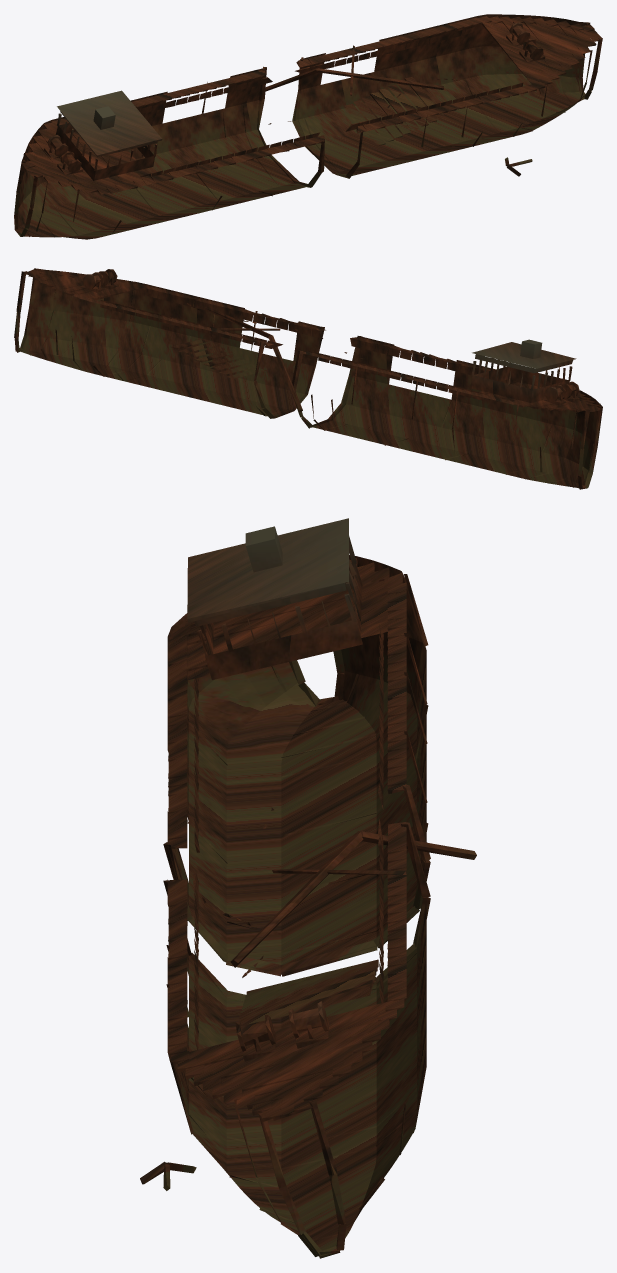
File: wreck_chenjiao_lod2.glb
3 renders of one model, top to bottom at view 1: azimuth 30°, elevation 25°; view 2: azimuth 150°, elevation 25°; view 3: azimuth 270°, elevation 25°, orthographic. The views are drawn at different scales.
Parts seen in each view (by area): view 1: Chenjiao; view 2: Chenjiao; view 3: Chenjiao.
Boxes of the visible parts, x1,y1,x2,y2 form: Chenjiao: [14, 14, 602, 239]; Chenjiao: [14, 268, 602, 489]; Chenjiao: [140, 518, 476, 1258].
Bounding box in the file's own units: 48 × 11.16 × 12.33.
Materials: 1 (1 with a texture image).
